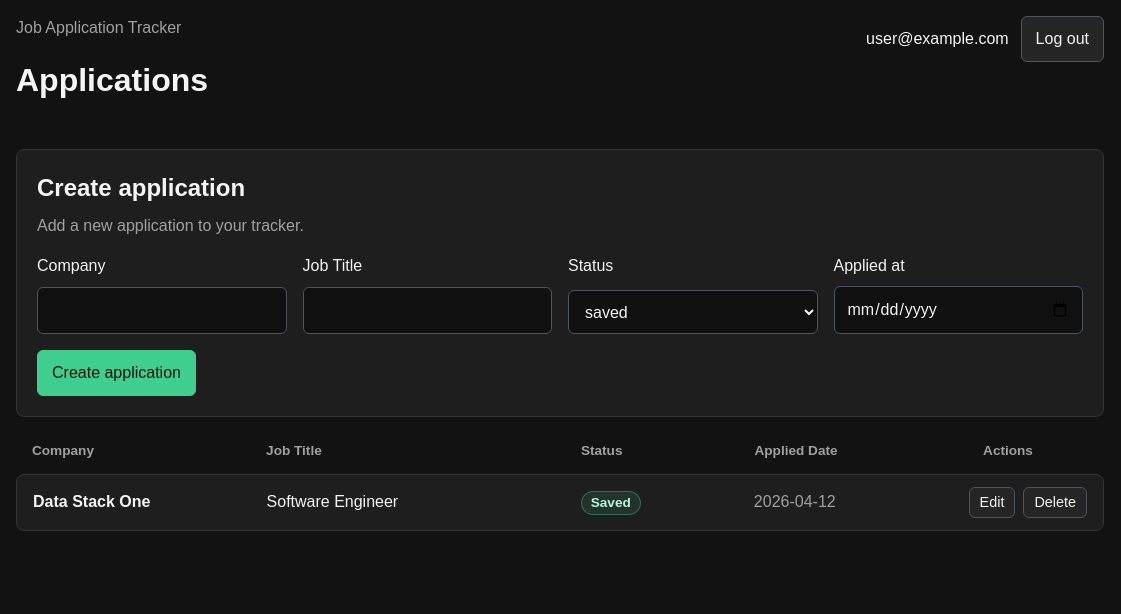
ApplicationsPage update flow › shows a delete error and restores the delete button when delete fails
The image size is (1121, 614).
Click the button "Delete": point(1055, 502) [1023,487,1087,518]
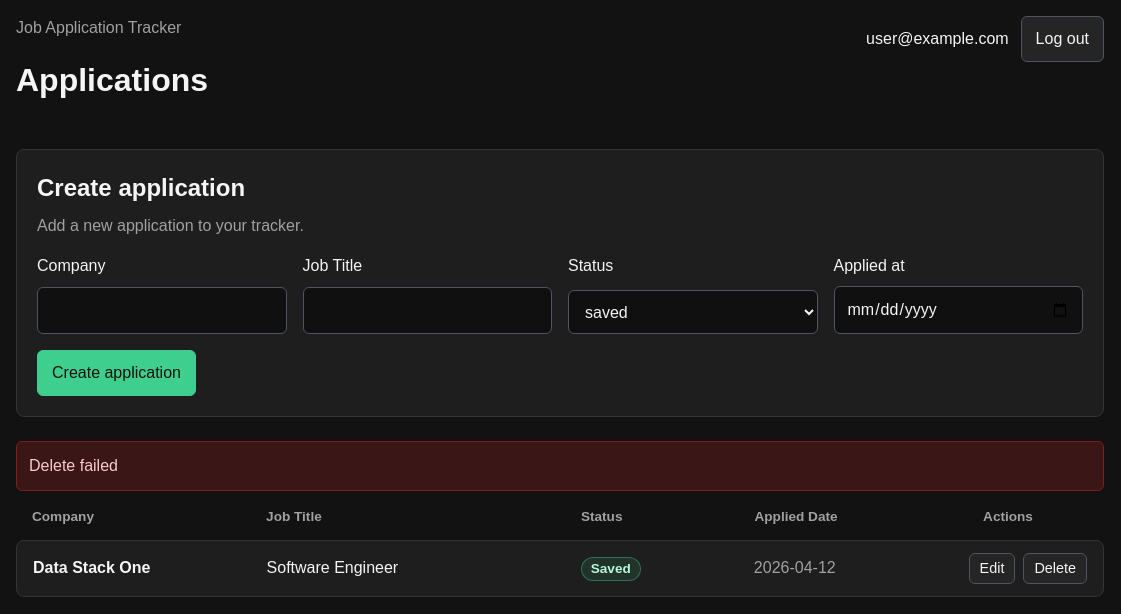
Check: the heading "Data Stack One" is shown, box [33,558,150,579]
Check: the message reads "Delete failed", box [29,457,118,474]
